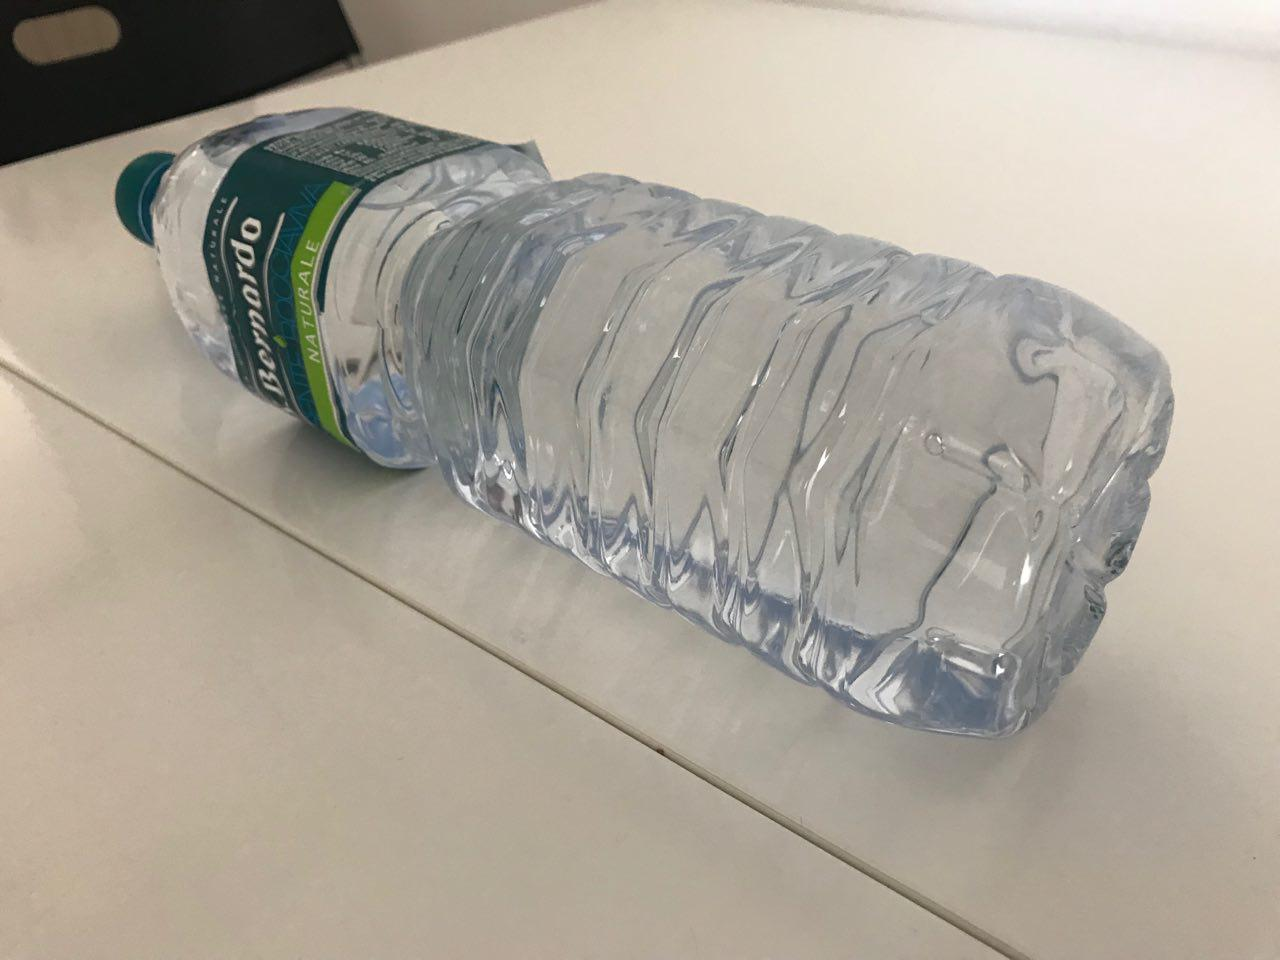san_bernardo: (112, 105, 1175, 741)
